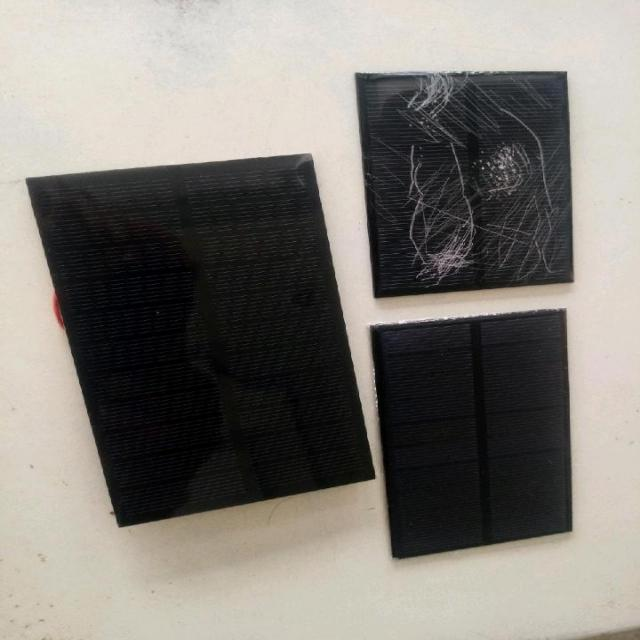faulty: (338, 79, 604, 298)
no faulty: (38, 165, 366, 512), (384, 312, 582, 556)
